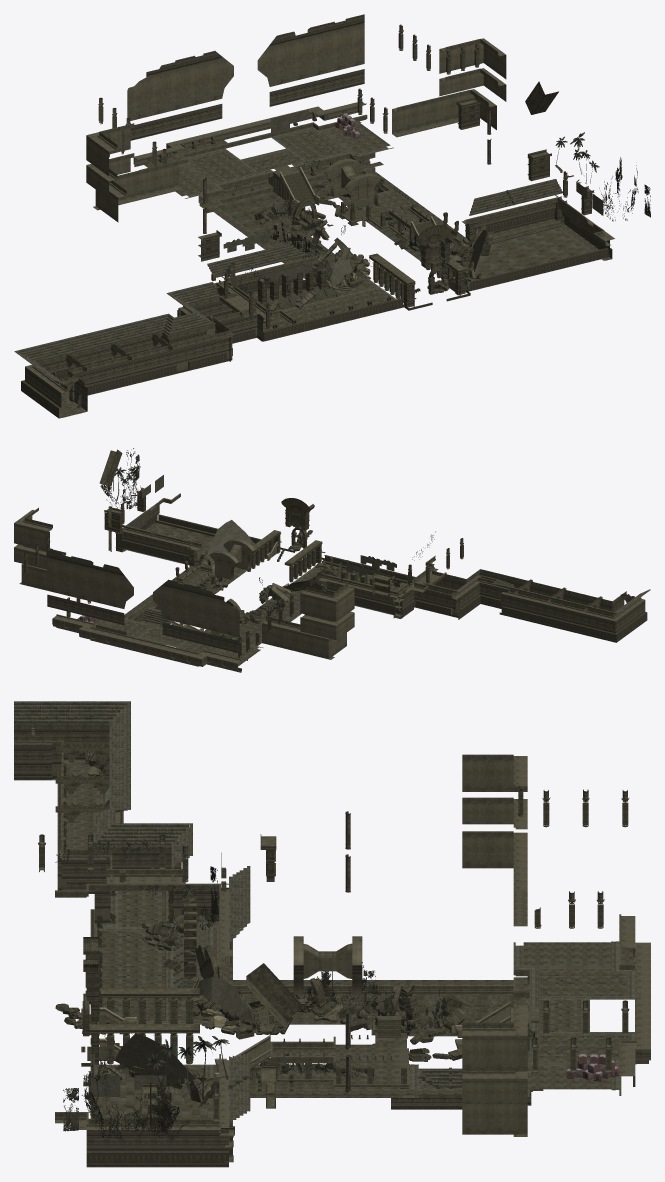
Rendered from map7.fbx.
3 views of the same model, one above another, from view 1: azimuth 30°, elevation 25°; view 2: azimuth 150°, elevation 25°; view 3: azimuth 270°, elevation 25° (orthographic). The views are drawn at different scales.
Visible parts, largest first — view 1: 0000_hgcr_B_polySurfaceShape4101, 0046_hgcr_R_polySurfaceShape106, 0018_hgcr_G_polySurfaceShape188, 0039_hgcr_G_polySurfaceShape11, 0002_hgcr_B_polySurfaceShape81, 0022_hgcr_G_polySurfaceShape6, 0049_hgcr_R_polySurfaceShape582, 0006_hgcr_B_polySurfaceShape7, 0020_hgcr_G_polySurfaceShape267, 0017_hgcr_G_polySurfaceShape188, 0003_hgcr_B_polySurfaceShape4887, 0015_hgcr_R_garekiShape30 (+7 smaller); view 2: 0000_hgcr_B_polySurfaceShape4101, 0046_hgcr_R_polySurfaceShape106, 0006_hgcr_B_polySurfaceShape7, 0011_hgcr_B_polySurfaceShape434, 0003_hgcr_B_polySurfaceShape4887, 0039_hgcr_G_polySurfaceShape11, 0017_hgcr_G_polySurfaceShape188, 0002_hgcr_B_polySurfaceShape81, 0048_hgcr_R_polySurfaceShape1244, 0018_hgcr_G_polySurfaceShape188, 0013_hgcr_R_garekiShape30, 0015_hgcr_R_garekiShape30 (+7 smaller); view 3: 0000_hgcr_B_polySurfaceShape4101, 0046_hgcr_R_polySurfaceShape106, 0018_hgcr_G_polySurfaceShape188, 0039_hgcr_G_polySurfaceShape11, 0015_hgcr_R_garekiShape30, 0022_hgcr_G_polySurfaceShape6, 0043_hgcr_G_polySurfaceShape280, 0002_hgcr_B_polySurfaceShape81, 0017_hgcr_G_polySurfaceShape188, 0024_hgcr_G_polySurfaceShape125, 0003_hgcr_B_polySurfaceShape4887, 0011_hgcr_B_polySurfaceShape434 (+11 smaller).
Boxes of the visible parts, <box> form: 0000_hgcr_B_polySurfaceShape4101: <box>58,14,614,390</box>; 0046_hgcr_R_polySurfaceShape106: <box>53,81,612,408</box>; 0018_hgcr_G_polySurfaceShape188: <box>200,152,611,310</box>; 0039_hgcr_G_polySurfaceShape11: <box>175,121,393,206</box>; 0002_hgcr_B_polySurfaceShape81: <box>67,307,264,411</box>; 0022_hgcr_G_polySurfaceShape6: <box>14,282,219,386</box>; 0049_hgcr_R_polySurfaceShape582: <box>69,203,432,402</box>; 0006_hgcr_B_polySurfaceShape7: <box>25,306,214,407</box>; 0020_hgcr_G_polySurfaceShape267: <box>474,228,590,278</box>; 0017_hgcr_G_polySurfaceShape188: <box>223,109,603,286</box>; 0003_hgcr_B_polySurfaceShape4887: <box>93,160,182,222</box>; 0015_hgcr_R_garekiShape30: <box>226,132,650,293</box>; 0000_hgcr_B_polySurfaceShape4101: <box>14,493,636,660</box>; 0046_hgcr_R_polySurfaceShape106: <box>53,449,619,640</box>; 0006_hgcr_B_polySurfaceShape7: <box>451,577,645,633</box>; 0011_hgcr_B_polySurfaceShape434: <box>52,614,241,671</box>; 0003_hgcr_B_polySurfaceShape4887: <box>262,616,346,659</box>; 0039_hgcr_G_polySurfaceShape11: <box>77,615,263,666</box>; 0017_hgcr_G_polySurfaceShape188: <box>96,475,396,635</box>; 0002_hgcr_B_polySurfaceShape81: <box>432,569,626,611</box>; 0048_hgcr_R_polySurfaceShape1244: <box>456,594,647,640</box>; 0018_hgcr_G_polySurfaceShape188: <box>122,522,400,646</box>; 0013_hgcr_R_garekiShape30: <box>396,555,460,616</box>; 0015_hgcr_R_garekiShape30: <box>100,448,434,618</box>; 0000_hgcr_B_polySurfaceShape4101: <box>31,721,629,1167</box>; 0046_hgcr_R_polySurfaceShape106: <box>63,744,632,1163</box>; 0018_hgcr_G_polySurfaceShape188: <box>74,757,573,1156</box>; 0039_hgcr_G_polySurfaceShape11: <box>488,941,634,1090</box>; 0015_hgcr_R_garekiShape30: <box>55,759,451,1139</box>; 0022_hgcr_G_polySurfaceShape6: <box>14,701,192,866</box>; 0043_hgcr_G_polySurfaceShape280: <box>94,927,206,1024</box>; 0002_hgcr_B_polySurfaceShape81: <box>14,735,112,919</box>; 0017_hgcr_G_polySurfaceShape188: <box>88,852,246,1118</box>; 0024_hgcr_G_polySurfaceShape125: <box>52,760,173,926</box>; 0003_hgcr_B_polySurfaceShape4887: <box>462,831,527,926</box>; 0011_hgcr_B_polySurfaceShape434: <box>619,914,650,1086</box>.
Size of what is drawn, in the model's own units: 262 by 62.52 by 161.
